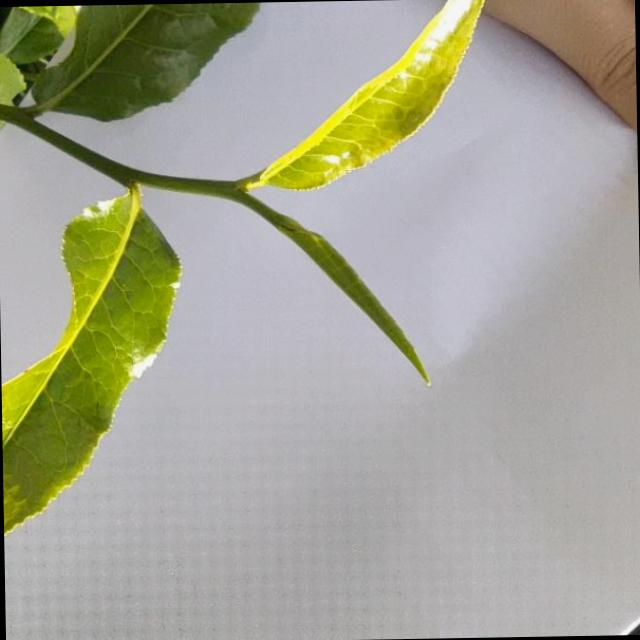Stem: (209, 180, 242, 196)
